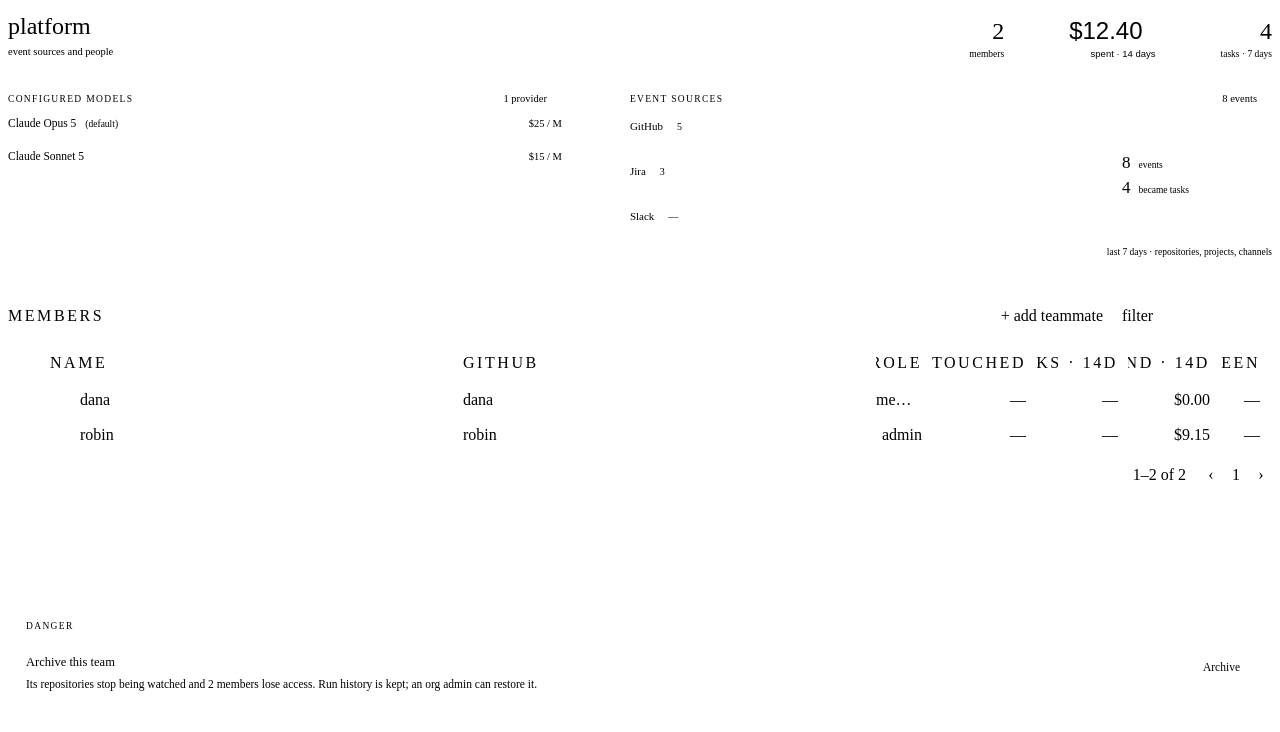
Test: the band › takes a named source to its own page
Expected: the text "EVENT SOURCES" is shown, [630,95,723,104]
Click the text "GitHub" at (646, 127), box [630,119,663,134]
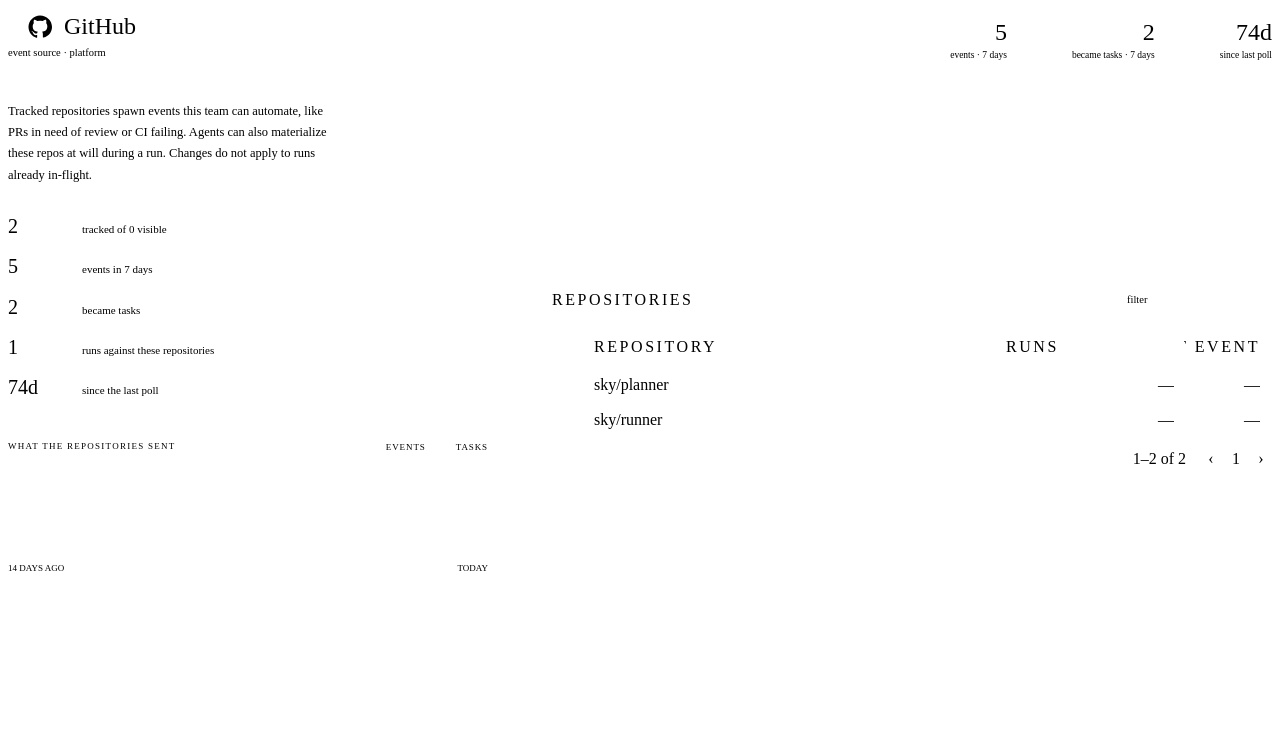
Result: the text "event source · platform" is shown at [8,47,106,58]
